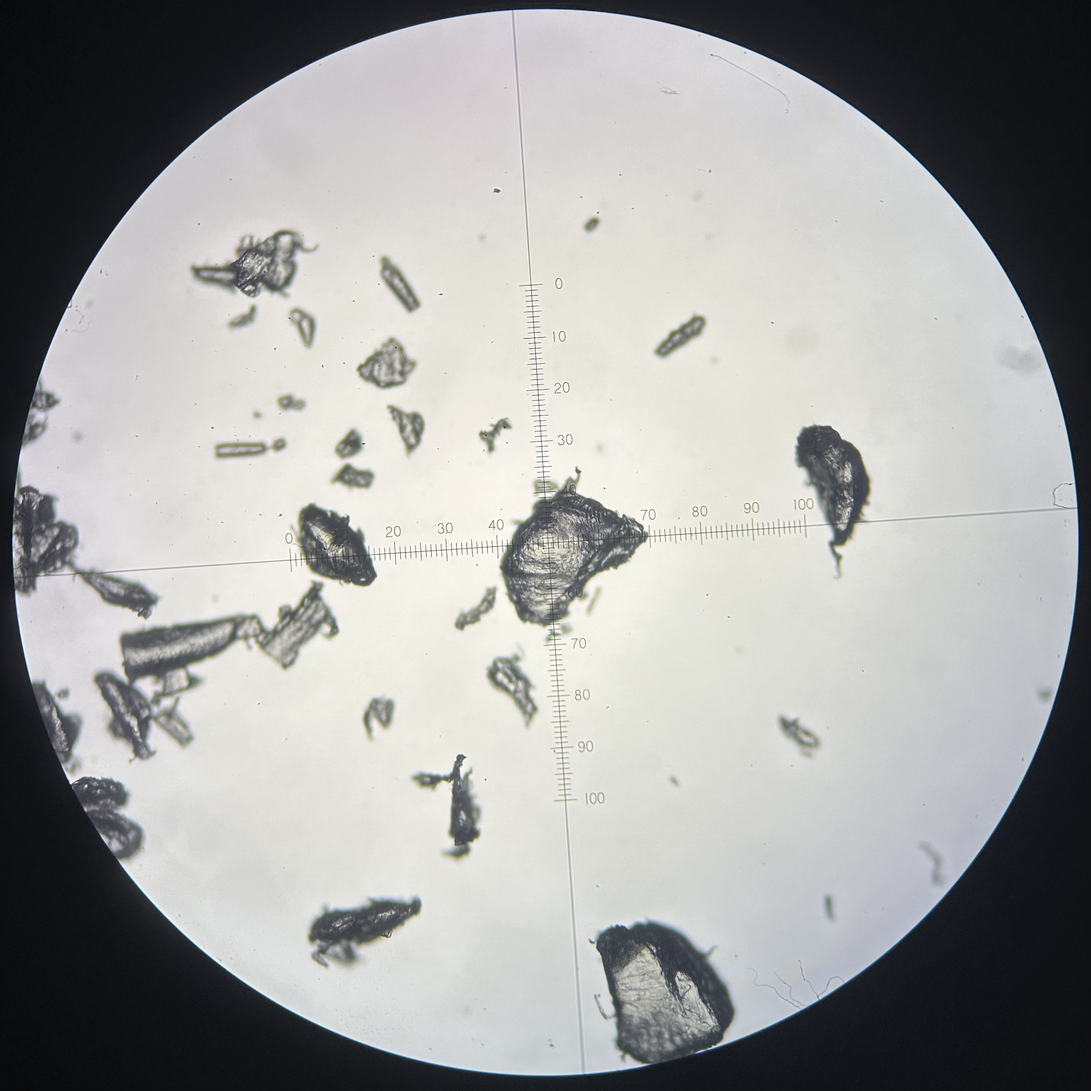microplastic: (497, 468, 651, 629), (589, 917, 738, 1065), (793, 422, 874, 581), (117, 611, 266, 693), (188, 228, 321, 300), (306, 894, 423, 970), (9, 484, 82, 598), (254, 578, 341, 673), (408, 753, 483, 863), (288, 500, 380, 589), (92, 672, 157, 763), (70, 566, 162, 623), (31, 678, 84, 774), (483, 652, 541, 731), (355, 335, 419, 390), (85, 808, 146, 860), (106, 682, 154, 748), (651, 312, 708, 361), (379, 253, 421, 314), (152, 694, 195, 750), (384, 401, 426, 458), (147, 664, 202, 707), (452, 583, 498, 632), (68, 774, 131, 809), (776, 711, 823, 751), (360, 696, 397, 744), (918, 840, 948, 889), (329, 462, 376, 492), (478, 416, 514, 455), (27, 377, 62, 413), (20, 411, 51, 451), (288, 308, 318, 349), (332, 427, 365, 461), (225, 303, 258, 331), (214, 441, 267, 458), (275, 394, 308, 413), (532, 477, 560, 498), (820, 893, 837, 923), (586, 587, 602, 616), (582, 216, 601, 234), (271, 437, 289, 453), (1038, 686, 1053, 702), (56, 687, 70, 702), (668, 775, 682, 787), (492, 188, 501, 193)
